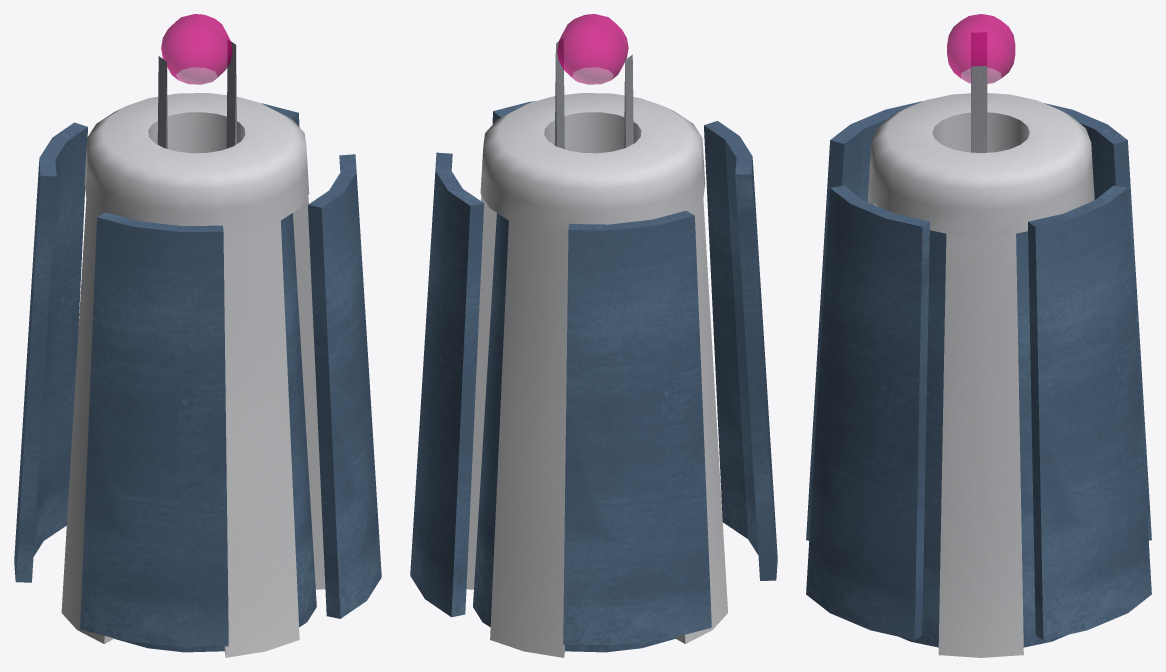
File: beam03.fbx
3 views of the same model, side by side, from view 1: azimuth 30°, elevation 25°; view 2: azimuth 150°, elevation 25°; view 3: azimuth 270°, elevation 25° (orthographic).
Visible parts, largest first — view 1: polySurface55, polySurface102; view 2: polySurface55, polySurface102; view 3: polySurface55, polySurface102.
Part boxes in pixels (x1,y1,x2,y2): polySurface55: (14, 40, 381, 657); polySurface102: (161, 14, 232, 84); polySurface55: (410, 39, 777, 657); polySurface102: (557, 14, 628, 84); polySurface55: (806, 33, 1151, 657); polySurface102: (947, 14, 1015, 83).
Bounding box in the file's own units: 13.16 × 24.5 × 13.16.
